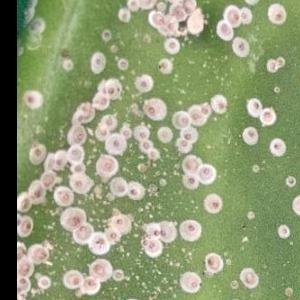Femea: (62, 207, 84, 226), (210, 95, 228, 114), (147, 98, 162, 118), (105, 230, 126, 244), (201, 165, 217, 183), (182, 221, 197, 239), (267, 7, 285, 22), (202, 198, 221, 212), (108, 136, 124, 152), (111, 215, 129, 229), (271, 140, 286, 156), (246, 98, 261, 114), (24, 91, 40, 106), (159, 224, 174, 240), (175, 140, 196, 151), (234, 39, 246, 58), (90, 55, 104, 71), (134, 75, 150, 88), (73, 178, 89, 191), (182, 176, 199, 188), (185, 109, 199, 123), (101, 114, 116, 127), (244, 129, 257, 143), (181, 130, 199, 140), (128, 183, 138, 201), (114, 183, 127, 196), (71, 162, 84, 175), (117, 127, 131, 139), (97, 127, 109, 141), (145, 225, 159, 237), (136, 128, 149, 140), (174, 115, 188, 126), (166, 40, 177, 53), (198, 105, 211, 116), (147, 148, 158, 160), (136, 141, 150, 150)
